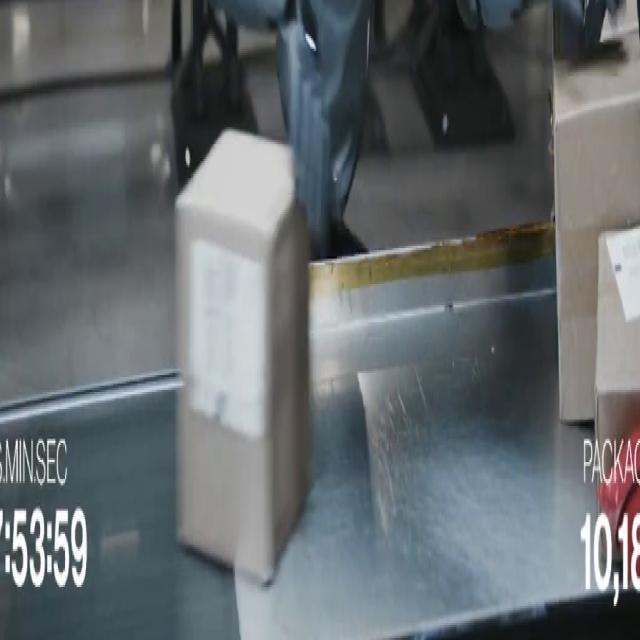package: (177, 132, 310, 582), (553, 28, 639, 421), (594, 227, 639, 517), (595, 227, 639, 478)
